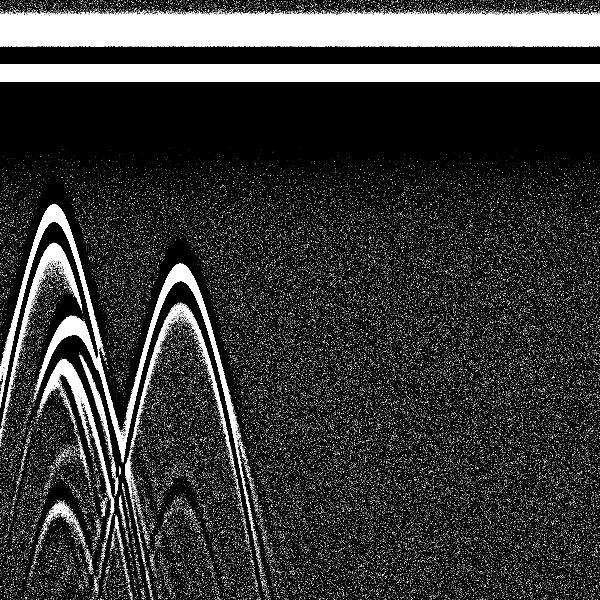pipe: (136, 6, 222, 351), (10, 6, 101, 300)
